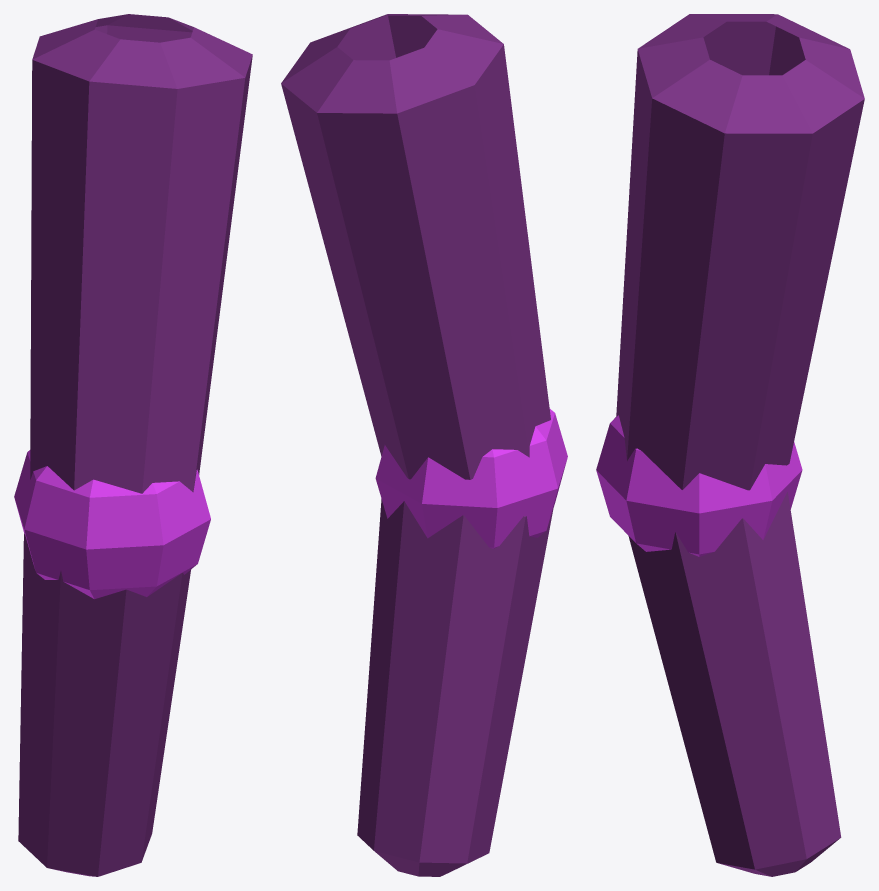
Rendered from imp_shaman_leg_L.obj.
3 views of the same model, side by side, from view 1: azimuth 30°, elevation 25°; view 2: azimuth 150°, elevation 25°; view 3: azimuth 270°, elevation 25° (orthographic). The views are drawn at different scales.
Parts seen in each view (by area): view 1: leg_upper_L, leg_lower_L, leg_joint_L; view 2: leg_upper_L, leg_lower_L, leg_joint_L; view 3: leg_upper_L, leg_lower_L, leg_joint_L.
Boxes of the visible parts, left/top/right/bottom form: leg_upper_L: left=30, top=14, right=252, bottom=493; leg_lower_L: left=18, top=532, right=190, bottom=876; leg_joint_L: left=14, top=450, right=210, bottom=599; leg_upper_L: left=281, top=14, right=550, bottom=479; leg_lower_L: left=357, top=499, right=553, bottom=876; leg_joint_L: left=375, top=409, right=567, bottom=548; leg_upper_L: left=616, top=14, right=864, bottom=490; leg_lower_L: left=628, top=492, right=841, bottom=876; leg_joint_L: left=596, top=415, right=802, bottom=556.
Size of the model in its own units: 0.185 by 0.6175 by 0.1765.
